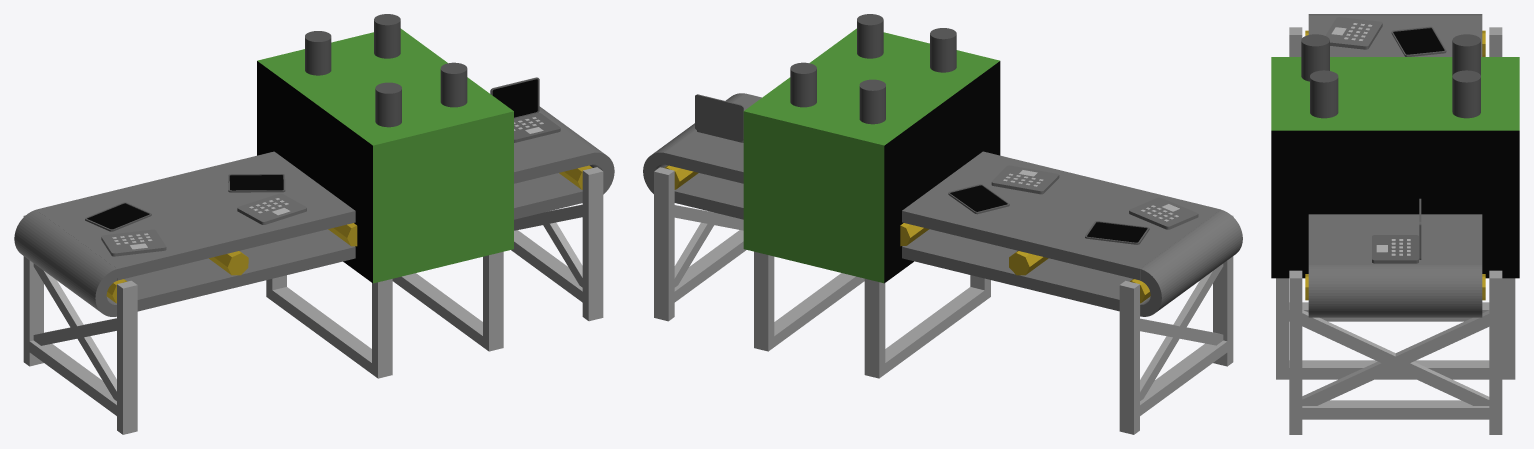
The model's file is general2.glb.
3 views of the same model, side by side, from view 1: azimuth 30°, elevation 25°; view 2: azimuth 150°, elevation 25°; view 3: azimuth 270°, elevation 25° (orthographic). The views are drawn at different scales.
Visible parts, largest first — view 1: machine, belt_sup, machine.002, belt_inf.001, belt_end, foot2.001, foot2, foot3.002, computer1, foot3.003, foot2.002, foot2.005 (+17 smaller); view 2: machine, belt_sup, machine.002, belt_inf.001, belt_end, foot1.001, foot1, foot3.002, foot2.003, foot3.003, foot2.006, foot3 (+17 smaller); view 3: machine.001, machine, belt_sup, belt_start, foot3.001, foot4.001, foot5.001, foot3.003, foot1.001, foot2.001, computer1, foot2.006 (+11 smaller).
Part boxes in pixels (x1,y1,x2,y2): machine: (257,28,513,283); belt_sup: (36,130,592,280); machine.002: (257,61,372,282); belt_inf.001: (107,173,582,311); belt_end: (14,210,117,316); foot2.001: (582,167,603,321); foot2: (117,280,137,434); foot3.002: (272,287,371,373); computer1: (490,77,560,142); foot3.003: (392,273,482,346); foot2.002: (372,279,392,378); foot2.005: (483,251,503,351); machine: (743,28,999,283); belt_sup: (664,93,1220,280); machine.002: (884,61,1000,283); belt_inf.001: (674,173,1150,315); belt_end: (1140,209,1242,316); foot1.001: (654,167,674,321); foot1: (1119,280,1139,434); foot3.002: (885,287,984,373); foot2.003: (864,278,885,378); foot3.003: (774,273,864,346); foot2.006: (754,251,774,351); foot3: (1140,340,1227,415); machine.001: (1271,130,1519,278); machine: (1271,57,1519,130); belt_sup: (1308,16,1482,264); belt_start: (1308,264,1482,317); foot3.001: (1301,400,1490,419); foot4.001: (1302,310,1489,405); foot5.001: (1302,310,1489,405); foot3.003: (1289,360,1489,379); foot1.001: (1489,270,1502,434); foot2.001: (1289,270,1302,434); computer1: (1372,198,1421,263); foot2.006: (1502,278,1515,379).
Bounding box in the file's own units: 4.5 × 2.24 × 1.74.
